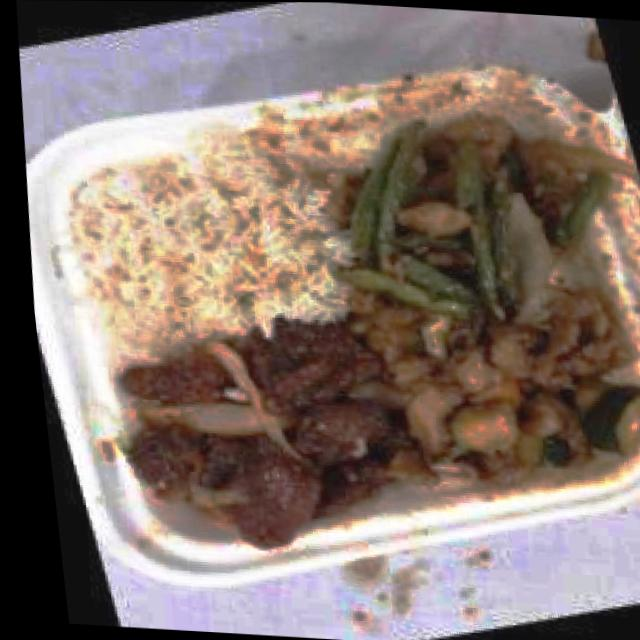Beijing Beef: (93, 321, 406, 554)
Kung Pao Chicken: (376, 316, 640, 479)
String Bean Chicken Breast: (320, 113, 615, 321)
rice: (52, 148, 366, 350)
